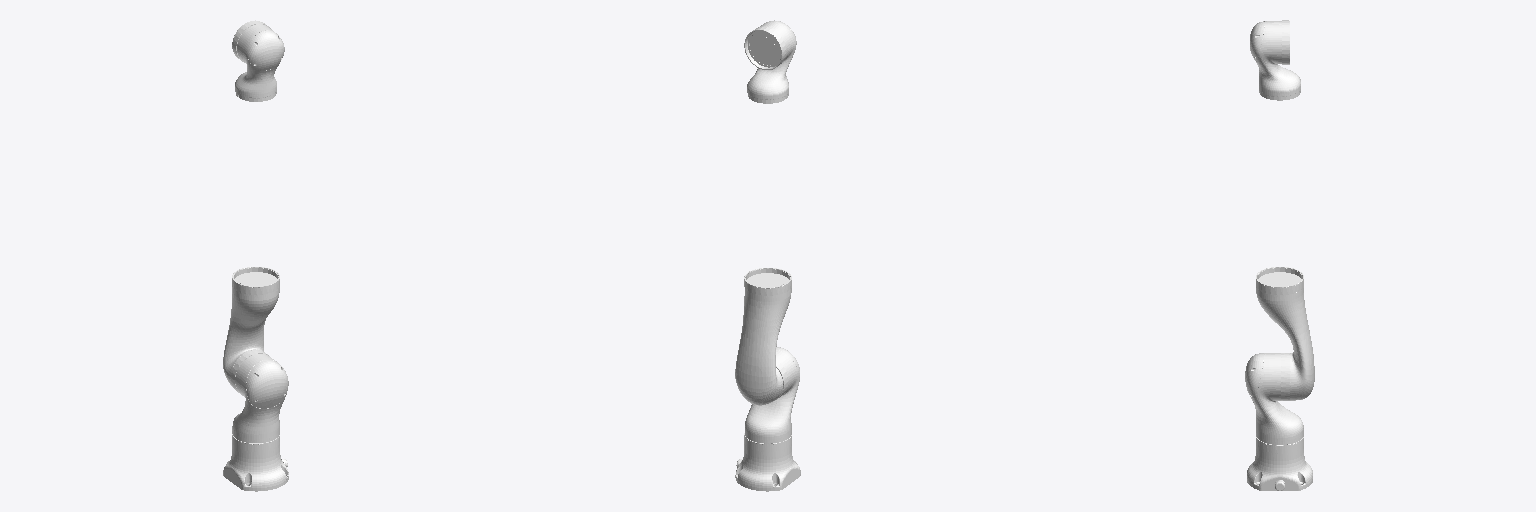
The robot description file, URDF, robot "TC7-robot":
<?xml version="1.0" encoding="utf-8"?>
<!-- This URDF was automatically created by SolidWorks to URDF Exporter! Originally created by Stephen Brawner (brawner@gmail.com) 
     Commit Version: 1.6.0-4-g7f85cfe  Build Version: 1.6.7995.38578
     For more information, please see http://wiki.ros.org/sw_urdf_exporter -->
<robot
  name="TC7-robot">
  <link
    name="base_link">
    <inertial>
      <origin
        xyz="0.00042812908419268 -1.65094491676426E-05 0.0387766451313615"
        rpy="0 0 0" />
      <mass
        value="0.95720819718381704" />
      <inertia
        ixx="0.0011156261089435227"
        ixy="1.4370931138611612e-7"
        ixz="0.000010298014445477507"
        iyy="0.0011040307466463723"
        iyz="-4.0416829653010525e-7"
        izz="0.0012090861829034727" />
    </inertial>
    <visual>
      <origin
        xyz="0 0 0"
        rpy="0 0 0" />
      <geometry>
        <mesh
          filename="package://TC7-robot/meshes/base_link.STL" />
      </geometry>
      <material
        name="">
        <color
          rgba="1 1 1 1" />
      </material>
    </visual>
    <collision>
      <origin
        xyz="0 0 0"
        rpy="0 0 0" />
      <geometry>
        <mesh
          filename="package://TC7-robot/meshes/base_link.STL" />
      </geometry>
    </collision>
  </link>
  <link
    name="link_1">
    <inertial>
      <origin
        xyz="-2.20212348002332E-06 0.0156916247453043 0.0809537615689704"
        rpy="0 0 0" />
      <mass
        value="1.3495035801557364" />
      <inertia
        ixx="0.0040906663072827543"
        ixy="-1.6238266387315848e-7"
        ixz="-4.5507901478007201e-8"
        iyy="0.0040653700840991420"
        iyz="-0.00063410791456843267"
        izz="0.0012852865245206269" />
    </inertial>
    <visual>
      <origin
        xyz="0 0 0"
        rpy="0 0 0" />
      <geometry>
        <mesh
          filename="package://TC7-robot/meshes/Link1.STL" />
      </geometry>
      <material
        name="">
        <color
          rgba="1 1 1 1" />
      </material>
    </visual>
    <collision>
      <origin
        xyz="0 0 0"
        rpy="0 0 0" />
      <geometry>
        <mesh
          filename="package://TC7-robot/meshes/Link1.STL" />
      </geometry>
    </collision>
  </link>
  <joint
    name="joint_1"
    type="revolute">
    <origin
      xyz="0 0 0.0823"
      rpy="0 0 3.1415926" />
    <parent
      link="base_link" />
    <child
      link="link_1" />
    <axis
      xyz="0 0 -1" />
    <limit
      lower="-3.1415"
      upper="3.1415"
      effort="100"
      velocity="10" />
    <!-- MJB 606C: 0.1 pulse/s per raw count; cnt_per_unit remains pulse/rad. -->
    <hardware id="0" type="driver">
      <limit lower="-3.1415" upper="3.1415" vel="10" acc="10.0" jerk="150.0" effort="100" />
      <transform ratio="1.0" offset_pos_cnt="0" cnt_per_unit="20860.757" vel_per_unit="6111549.90" torque_per_unit="1.0" user_unit_name="rad" />
      <inputs name="Inputs">
        <status_word>Status Word</status_word>
        <position_actual_value>Position Actual Value</position_actual_value>
        <velocity_actual_value>Velocity Actual Value</velocity_actual_value>
        <torque_actual_value>Torque Actual Value</torque_actual_value>
      </inputs>
      <outputs name="Outputs">
        <control_word>Control Word</control_word>
        <mode_of_operation>Mode of Operation</mode_of_operation>
        <target_position>Target Position</target_position>
        <target_velocity>Target Velocity</target_velocity>
        <target_torque>Target Torque</target_torque>
      </outputs>
    </hardware>
  </joint>
  <link
    name="link_2">
    <inertial>
      <origin
        xyz="-1.21493643904945E-05 0.0919561858912101 0.0102373235118796"
        rpy="0 0 0" />
      <mass
        value="1.5025316960893401" />
      <inertia
        ixx="0.0086211409589954097"
        ixy="-0.0000020551109373420626"
        ixz="1.9865290633187631e-7"
        iyy="0.0014639375796644280"
        iyz="0.0015098587499143606"
        izz="0.0084531256505816529" />
    </inertial>
    <visual>
      <origin
        xyz="0 0 0"
        rpy="0 0 0" />
      <geometry>
        <mesh
          filename="package://TC7-robot/meshes/Link2.STL" />
      </geometry>
      <material
        name="">
        <color
          rgba="1 1 1 1" />
      </material>
    </visual>
    <collision>
      <origin
        xyz="0 0 0"
        rpy="0 0 0" />
      <geometry>
        <mesh
          filename="package://TC7-robot/meshes/Link2.STL" />
      </geometry>
    </collision>
  </link>
  <joint
    name="joint_2"
    type="revolute">
    <origin
      xyz="0 -0.0105 0.1263"
      rpy="1.5708 0 0" />
    <parent
      link="link_1" />
    <child
      link="link_2" />
    <axis
      xyz="0 0 -1" />
    <limit
      lower="-2.3911"
      upper="2.3911"
      effort="100"
      velocity="10" />
    <hardware id="1" type="driver">
      <limit lower="-2.3911" upper="2.3911" vel="10" acc="10.0" jerk="150.0" effort="100" />
      <transform ratio="1.0" offset_pos_cnt="0" cnt_per_unit="20860.757" vel_per_unit="6111549.90" torque_per_unit="1.0" user_unit_name="rad" />
      <inputs name="Inputs">
        <status_word>Status Word</status_word>
        <position_actual_value>Position Actual Value</position_actual_value>
        <velocity_actual_value>Velocity Actual Value</velocity_actual_value>
        <torque_actual_value>Torque Actual Value</torque_actual_value>
      </inputs>
      <outputs name="Outputs">
        <control_word>Control Word</control_word>
        <mode_of_operation>Mode of Operation</mode_of_operation>
        <target_position>Target Position</target_position>
        <target_velocity>Target Velocity</target_velocity>
        <target_torque>Target Torque</target_torque>
      </outputs>
    </hardware>
  </joint>
  <link
    name="link_3">
    <inertial>
      <origin
        xyz="1.08359934578556E-05 -0.0187424086267603 0.102608788331855"
        rpy="0 0 0" />
      <mass
        value="1.5024741349840683" />
      <inertia
        ixx="0.0086196792665395310"
        ixy="2.0759418129399847e-7"
        ixz="-0.0000018177990513422731"
        iyy="0.0084635789061291336"
        iyz="0.0015084347140221516"
        izz="0.0014518401797404368" />
    </inertial>
    <visual>
      <origin
        xyz="0 0 0"
        rpy="0 0 0" />
      <geometry>
        <mesh
          filename="package://TC7-robot/meshes/Link3.STL" />
      </geometry>
      <material
        name="">
        <color
          rgba="1 1 1 1" />
      </material>
    </visual>
    <collision>
      <origin
        xyz="0 0 0"
        rpy="0 0 0" />
      <geometry>
        <mesh
          filename="package://TC7-robot/meshes/Link3.STL" />
      </geometry>
    </collision>
  </link>
  <joint
    name="joint_3"
    type="revolute">
    <origin
      xyz="0 0.1955 -0.0085"
      rpy="-1.5708 0 0" />
    <parent
      link="link_2" />
    <child
      link="link_3" />
    <axis
      xyz="0 0 -1" />
    <limit
      lower="-3.1415"
      upper="3.1415"
      effort="100"
      velocity="10" />
    <hardware id="2" type="driver">
      <limit lower="-3.1415" upper="3.1415" vel="10" acc="10.0" jerk="150.0" effort="100" />
      <transform ratio="1.0" offset_pos_cnt="0" cnt_per_unit="20860.757" vel_per_unit="5092958.30" torque_per_unit="1.0" user_unit_name="rad" />
      <inputs name="Inputs">
        <status_word>Status Word</status_word>
        <position_actual_value>Position Actual Value</position_actual_value>
        <velocity_actual_value>Velocity Actual Value</velocity_actual_value>
        <torque_actual_value>Torque Actual Value</torque_actual_value>
      </inputs>
      <outputs name="Outputs">
        <control_word>Control Word</control_word>
        <mode_of_operation>Mode of Operation</mode_of_operation>
        <target_position>Target Position</target_position>
        <target_velocity>Target Velocity</target_velocity>
        <target_torque>Target Torque</target_torque>
      </outputs>
    </hardware>
  </joint>
  <link
    name="link_4">
    <inertial>
      <origin
        xyz="-7.72237360151551E-07 -0.0708254171205411 0.024515507954195"
        rpy="0 0 0" />
      <mass
        value="1.5074684972413436" />
      <inertia
        ixx="0.0084919598575571042"
        ixy="3.0669083296242477e-8"
        ixz="3.3956699414836545e-8"
        iyy="0.0012509901979159846"
        iyz="-0.0010431364835178977"
        izz="0.0084224023439356866" />
    </inertial>
    <visual>
      <origin
        xyz="0 0 0"
        rpy="0 0 0" />
      <geometry>
        <mesh
          filename="package://TC7-robot/meshes/Link4.STL" />
      </geometry>
      <material
        name="">
        <color
          rgba="1 1 1 1" />
      </material>
    </visual>
    <collision>
      <origin
        xyz="0 0 0"
        rpy="0 0 0" />
      <geometry>
        <mesh
          filename="package://TC7-robot/meshes/Link4.STL" />
      </geometry>
    </collision>
  </link>
  <joint
    name="joint_4"
    type="revolute">
    <origin
      xyz="0 -0.0075 0.1945"
      rpy="-1.5708 0 0" />
    <parent
      link="link_3" />
    <child
      link="link_4" />
    <axis
      xyz="0 0 1" />
    <limit
      lower="-2.5656"
      upper="2.5656"
      effort="100"
      velocity="10" />
    <hardware id="3" type="driver">
      <limit lower="-2.5656" upper="2.5656" vel="10" acc="10.0" jerk="150.0" effort="100" />
      <transform ratio="1.0" offset_pos_cnt="0" cnt_per_unit="20860.757" vel_per_unit="5092958.30" torque_per_unit="1.0" user_unit_name="rad" />
      <inputs name="Inputs">
        <status_word>Status Word</status_word>
        <position_actual_value>Position Actual Value</position_actual_value>
        <velocity_actual_value>Velocity Actual Value</velocity_actual_value>
        <torque_actual_value>Torque Actual Value</torque_actual_value>
      </inputs>
      <outputs name="Outputs">
        <control_word>Control Word</control_word>
        <mode_of_operation>Mode of Operation</mode_of_operation>
        <target_position>Target Position</target_position>
        <target_velocity>Target Velocity</target_velocity>
        <target_torque>Target Torque</target_torque>
      </outputs>
    </hardware>
  </joint>
  <link
    name="link_5">
    <inertial>
      <origin
        xyz="-1.27501936146238E-05 0.0130911955174951 0.0675660872931558"
        rpy="0 0 0" />
      <mass
        value="0.86307726882147356" />
      <inertia
        ixx="0.0018171556069561252"
        ixy="-3.4039426284554007e-7"
        ixz="-7.6751472380441018e-7"
        iyy="0.0017948052444865911"
        iyz="-0.00026066645332988243"
        izz="0.00063814865294823016" />
    </inertial>
    <visual>
      <origin
        xyz="0 0 0"
        rpy="0 0 0" />
      <geometry>
        <mesh
          filename="package://TC7-robot/meshes/Link5.STL" />
      </geometry>
      <material
        name="">
        <color
          rgba="1 1 1 1" />
      </material>
    </visual>
    <collision>
      <origin
        xyz="0 0 0"
        rpy="0 0 0" />
      <geometry>
        <mesh
          filename="package://TC7-robot/meshes/Link5.STL" />
      </geometry>
    </collision>
  </link>
  <joint
    name="joint_5"
    type="revolute">
    <origin
      xyz="0 -0.189 0.0095"
      rpy="1.5708 0 0" />
    <parent
      link="link_4" />
    <child
      link="link_5" />
    <axis
      xyz="0 0 -1" />
    <limit
      lower="-3.1415"
      upper="3.1415"
      effort="100"
      velocity="10" />
    <hardware id="4" type="driver">
      <limit lower="-3.1415" upper="3.1415" vel="10" acc="10.0" jerk="150.0" effort="100" />
      <transform ratio="1.0" offset_pos_cnt="0" cnt_per_unit="20860.757" vel_per_unit="5092958.30" torque_per_unit="1.0" user_unit_name="rad" />
      <inputs name="Inputs">
        <status_word>Status Word</status_word>
        <position_actual_value>Position Actual Value</position_actual_value>
        <velocity_actual_value>Velocity Actual Value</velocity_actual_value>
        <torque_actual_value>Torque Actual Value</torque_actual_value>
      </inputs>
      <outputs name="Outputs">
        <control_word>Control Word</control_word>
        <mode_of_operation>Mode of Operation</mode_of_operation>
        <target_position>Target Position</target_position>
        <target_velocity>Target Velocity</target_velocity>
        <target_torque>Target Torque</target_torque>
      </outputs>
    </hardware>
  </joint>
  <link
    name="link_6">
    <inertial>
      <origin
        xyz="-5.65236122702609E-06 0.0534714161281222 0.004431081235741"
        rpy="0 0 0" />
      <mass
        value="0.85342395863886931" />
      <inertia
        ixx="0.0022529883348729306"
        ixy="-3.5888181604633952e-8"
        ixz="-4.7038107168108064e-8"
        iyy="0.00071976941960654861"
        iyz="0.00052705749446854294"
        izz="0.0021443640118771465" />
    </inertial>
    <visual>
      <origin
        xyz="0 0 0"
        rpy="0 0 0" />
      <geometry>
        <mesh
          filename="package://TC7-robot/meshes/Link6.STL" />
      </geometry>
      <material
        name="">
        <color
          rgba="1 1 1 1" />
      </material>
    </visual>
    <collision>
      <origin
        xyz="0 0 0"
        rpy="0 0 0" />
      <geometry>
        <mesh
          filename="package://TC7-robot/meshes/Link6.STL" />
      </geometry>
    </collision>
  </link>
  <joint
    name="joint_6"
    type="revolute">
    <origin
      xyz="0 -0.0114 0.1002"
      rpy="1.5708 0 0" />
    <parent
      link="link_5" />
    <child
      link="link_6" />
    <axis
      xyz="0 0 -1" />
    <limit
      lower="-2.2166"
      upper="2.2166"
      effort="100"
      velocity="10" />
    <hardware id="5" type="driver">
      <limit lower="-2.2166" upper="2.2166" vel="10" acc="10.0" jerk="150.0" effort="100" />
      <transform ratio="1.0" offset_pos_cnt="0" cnt_per_unit="20860.757" vel_per_unit="5092958.30" torque_per_unit="1.0" user_unit_name="rad" />
      <inputs name="Inputs">
        <status_word>Status Word</status_word>
        <position_actual_value>Position Actual Value</position_actual_value>
        <velocity_actual_value>Velocity Actual Value</velocity_actual_value>
        <torque_actual_value>Torque Actual Value</torque_actual_value>
      </inputs>
      <outputs name="Outputs">
        <control_word>Control Word</control_word>
        <mode_of_operation>Mode of Operation</mode_of_operation>
        <target_position>Target Position</target_position>
        <target_velocity>Target Velocity</target_velocity>
        <target_torque>Target Torque</target_torque>
      </outputs>
    </hardware>
  </joint>
  <link
    name="link_7">
    <inertial>
      <origin
        xyz="-0.000200872774793521 4.41883767489635E-06 0.0275983313206918"
        rpy="0 0 0" />
      <mass
        value="0.46431266688535171" />
      <inertia
        ixx="0.00030064781911307282"
        ixy="9.5117257223567313e-9"
        ixz="0.0000021727180129173133"
        iyy="0.00030373602192880522"
        iyz="5.1536084750030164e-8"
        izz="0.00035471881417329949" />
    </inertial>
    <visual>
      <origin
        xyz="0 0 0"
        rpy="0 0 0" />
      <geometry>
        <mesh
          filename="package://TC7-robot/meshes/Link7.STL" />
      </geometry>
      <material
        name="">
        <color
          rgba="0.776470588235294 0.756862745098039 0.737254901960784 1" />
      </material>
    </visual>
    <collision>
      <origin
        xyz="0 0 0"
        rpy="0 0 0" />
      <geometry>
        <mesh
          filename="package://TC7-robot/meshes/Link7.STL" />
      </geometry>
    </collision>
  </link>
  <joint
    name="joint_7"
    type="revolute">
    <origin
      xyz="0 0.1208 -0.0114"
      rpy="-1.5708 0 0" />
    <parent
      link="link_6" />
    <child
      link="link_7" />
    <axis
      xyz="0 0 -1" />
    <limit
      lower="-3.1415"
      upper="3.1415"
      effort="100"
      velocity="10" />
    <hardware id="6" type="driver">
      <limit lower="-3.1415" upper="3.1415" vel="10" acc="10.0" jerk="150.0" effort="100" />
      <transform ratio="1.0" offset_pos_cnt="0" cnt_per_unit="20860.757" vel_per_unit="5092958.30" torque_per_unit="1.0" user_unit_name="rad" />
      <inputs name="Inputs">
        <status_word>Status Word</status_word>
        <position_actual_value>Position Actual Value</position_actual_value>
        <velocity_actual_value>Velocity Actual Value</velocity_actual_value>
        <torque_actual_value>Torque Actual Value</torque_actual_value>
      </inputs>
      <outputs name="Outputs">
        <control_word>Control Word</control_word>
        <mode_of_operation>Mode of Operation</mode_of_operation>
        <target_position>Target Position</target_position>
        <target_velocity>Target Velocity</target_velocity>
        <target_torque>Target Torque</target_torque>
      </outputs>
    </hardware>
  </joint>
</robot>

--- What the picture shows (computed from the rendered views, not written in the file) ---
The picture shows the robot from 3 angles, left to right: view 1: azimuth 30°, elevation 25°; view 2: azimuth 150°, elevation 25°; view 3: azimuth 270°, elevation 25°; orthographic projection.
Robot: TC7-robot — 8 links, 7 joints (7 revolute); root link base_link; default pose: all joints at 0.
Visible links, largest first — view 1: link_1, link_2, link_5, base_link; view 2: link_2, link_5, link_1, base_link; view 3: link_2, link_1, link_5, base_link.
Link boxes in pixels (x1,y1,x2,y2): link_1: [231, 350, 288, 442]; link_2: [223, 267, 279, 386]; link_5: [232, 20, 284, 101]; base_link: [223, 434, 288, 491]; link_2: [735, 268, 791, 405]; link_5: [744, 20, 796, 103]; link_1: [745, 347, 799, 443]; base_link: [735, 433, 800, 491]; link_2: [1256, 267, 1314, 400]; link_1: [1245, 353, 1303, 444]; link_5: [1250, 20, 1300, 100]; base_link: [1247, 437, 1312, 490].
Bounding box of the posed robot: 0.1148 × 0.1282 × 0.9286 m (x, y, z).
4 mesh visuals loaded from 8 distinct referenced files (4 binary STL); not drawn: 4 (reference not matched to a file when rendering).
